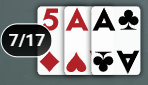5: (38, 6, 63, 32)
a: (90, 6, 117, 34), (65, 6, 90, 34)
